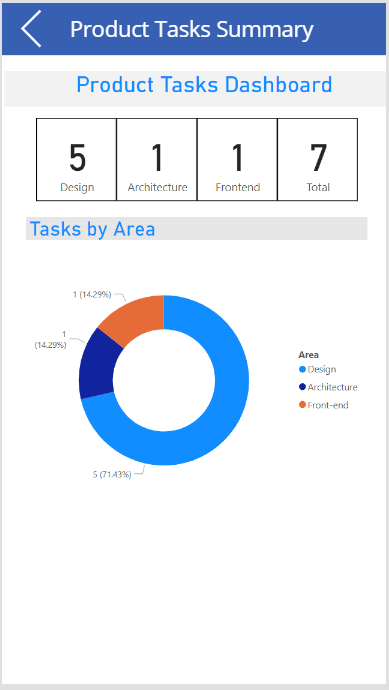

The dashboard page shown, as its layout file describes it:
{"tool":"powerbi","page":{"name":"Mobile","canvas":[550,700],"ordinal":1},"visuals":[{"type":"donutChart","title":"Tasks by Area","fields":{"Category":["Test.Area"],"Y":["CountNonNull(Test.ID)"]},"box":[34.2,209.1,489.1,435.4],"z":0},{"type":"textbox","title":"Product Tasks Dashboard","box":[3.4,0,572.6,51.4],"z":1000},{"type":"card","fields":{"Values":["Test.Design Tasks"]},"box":[49.3,67.5,115,119.4],"z":2000},{"type":"card","fields":{"Values":["Test.Architecture"]},"box":[164.3,67.5,115,119.4],"z":3000},{"type":"card","fields":{"Values":["Test.Frontend"]},"box":[279.4,67.5,115,119.4],"z":4000},{"type":"card","fields":{"Values":["CountNonNull(Test.ID)"]},"box":[394.4,67.5,115,119.4],"z":5000}]}

Visuals, with their boxes on the page's 550x700 design canvas (x1, y1, x2, y2). These are canvas units, not pixel positions in the 389x690 screenshot, which may show the page scaled, cropped or inside an application window:
"Tasks by Area" donutChart: Rect(34, 209, 523, 644)
"Product Tasks Dashboard" textbox: Rect(3, 0, 576, 51)
card - Test.Design Tasks: Rect(49, 68, 164, 187)
card - Test.Architecture: Rect(164, 68, 279, 187)
card - Test.Frontend: Rect(279, 68, 394, 187)
card - CountNonNull(Test.ID): Rect(394, 68, 509, 187)
